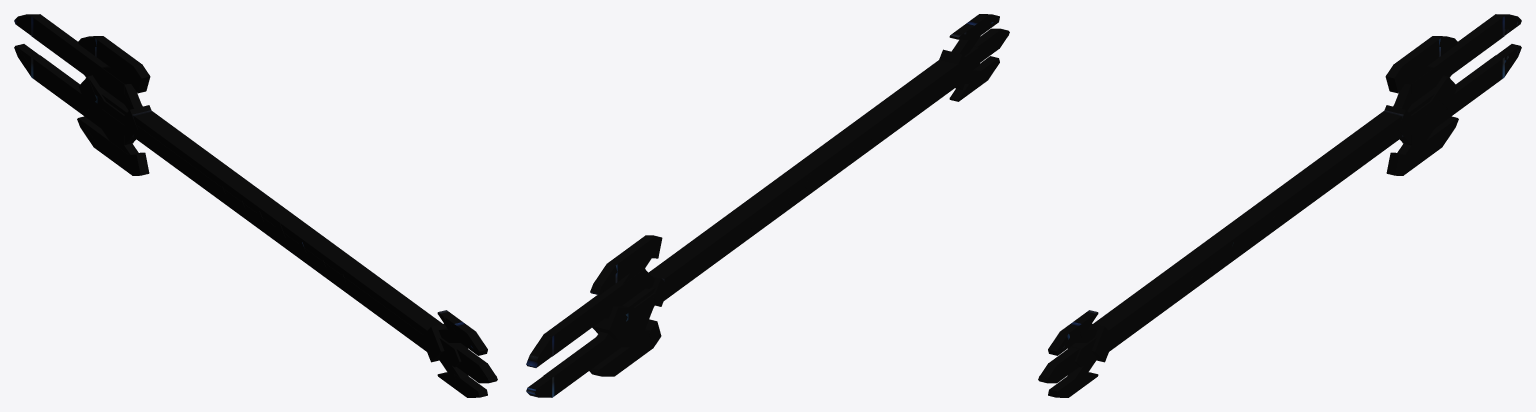
Rendered from agony.obj.
The picture shows the model from 3 angles, left to right: view 1: azimuth 30°, elevation 25°; view 2: azimuth 150°, elevation 25°; view 3: azimuth 330°, elevation 25°; orthographic projection.
Visible parts, largest first — view 1: cube.088; view 2: cube.088; view 3: cube.088.
Boxes of the visible parts, x1,y1,x2,y2 form: cube.088: (14, 14, 497, 397); cube.088: (526, 14, 1009, 397); cube.088: (1038, 14, 1521, 397).
Bounding box in the file's own units: 0.1278 × 0.6918 × 5.4.
